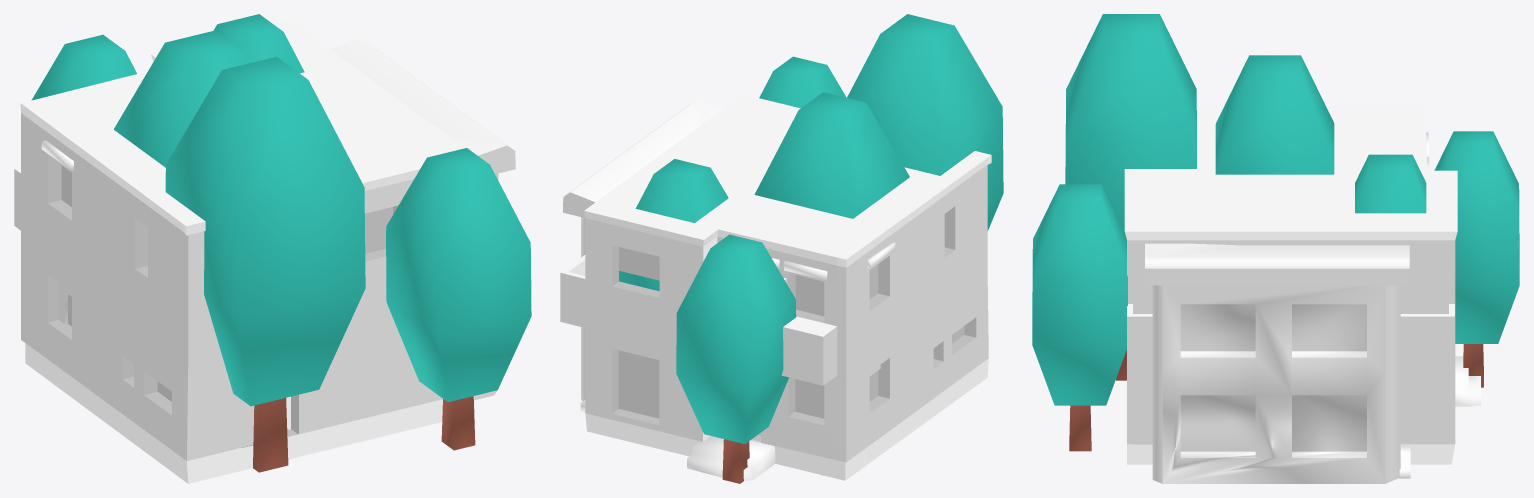
The model's file is houses.glb.
3 renders of one model, left to right at view 1: azimuth 30°, elevation 25°; view 2: azimuth 150°, elevation 25°; view 3: azimuth 270°, elevation 25°, orthographic. The views are drawn at different scales.
Visible parts, largest first — view 1: House-1, Tree.002, Tree-1.003, Tree-1.002, House-3, Tree-1.001, Tree.001; view 2: House-1, Tree-1.001, Tree.002, Tree-1.002, House-3, Tree.001, Tree-1.003; view 3: House-3, House-1, Tree-1.003, Tree.002, Tree-1.001, Tree-1.002, Tree.001.
Boxes of the visible parts, x1,y1,x2,y2 form: House-1: [14, 20, 474, 483]; Tree.002: [165, 56, 365, 472]; Tree-1.003: [386, 148, 531, 450]; Tree-1.002: [114, 30, 249, 167]; House-3: [58, 38, 515, 400]; Tree-1.001: [31, 34, 136, 100]; Tree.001: [213, 14, 304, 73]; House-1: [560, 94, 991, 481]; Tree-1.001: [676, 234, 796, 483]; Tree.002: [847, 14, 1003, 230]; Tree-1.002: [754, 92, 909, 218]; House-3: [563, 100, 880, 401]; Tree.001: [619, 159, 728, 291]; Tree-1.003: [759, 56, 846, 108]; House-3: [1145, 243, 1409, 483]; House-1: [1124, 105, 1480, 478]; Tree-1.003: [1032, 184, 1127, 451]; Tree.002: [1065, 14, 1196, 380]; Tree-1.001: [1434, 131, 1519, 387]; Tree-1.002: [1215, 55, 1334, 174]; Tree.001: [1355, 154, 1426, 213].
Size of the model in its own units: 8.98 by 9.72 by 12.3.
Materials: 1 (1 with a texture image).
